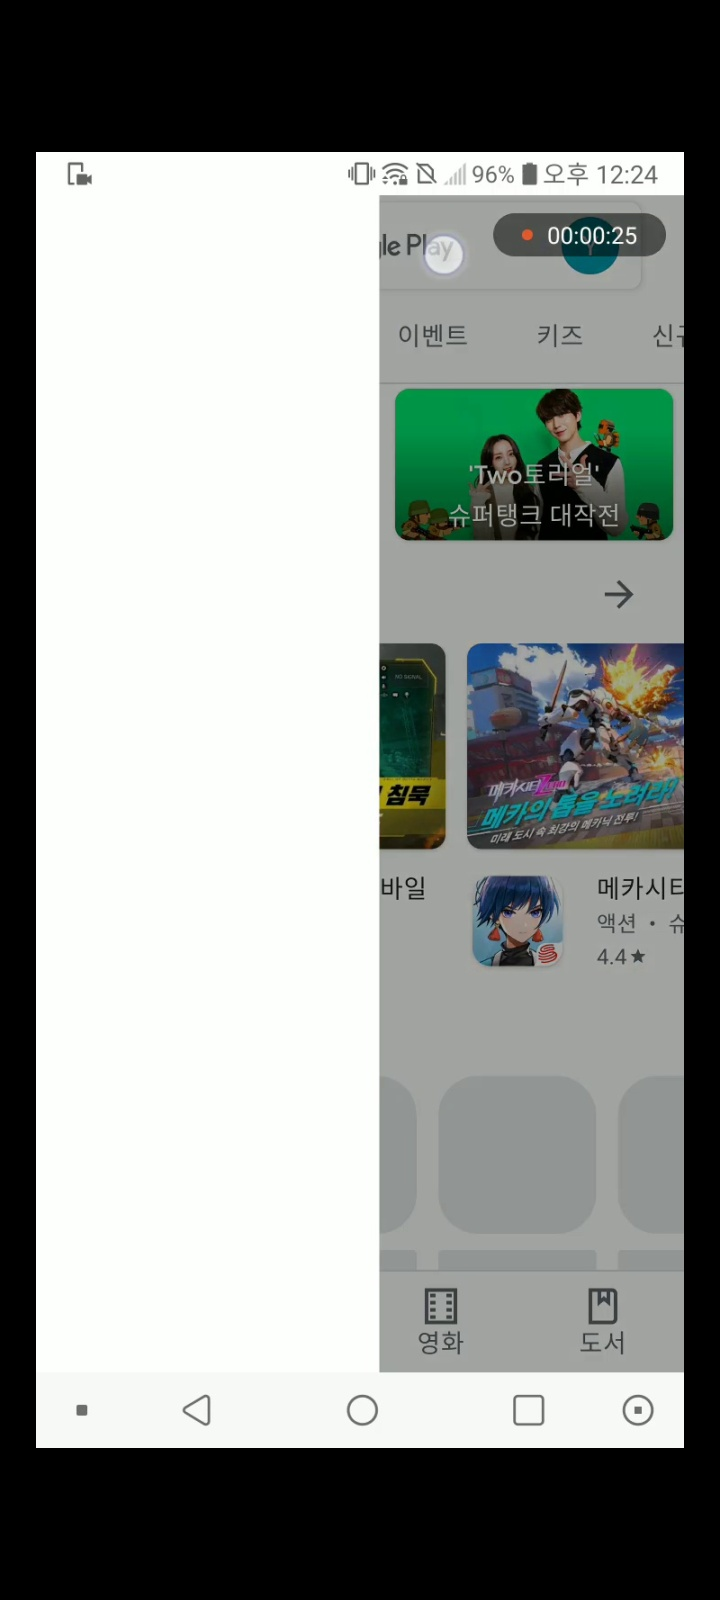Cursor: (422, 233, 467, 278)
